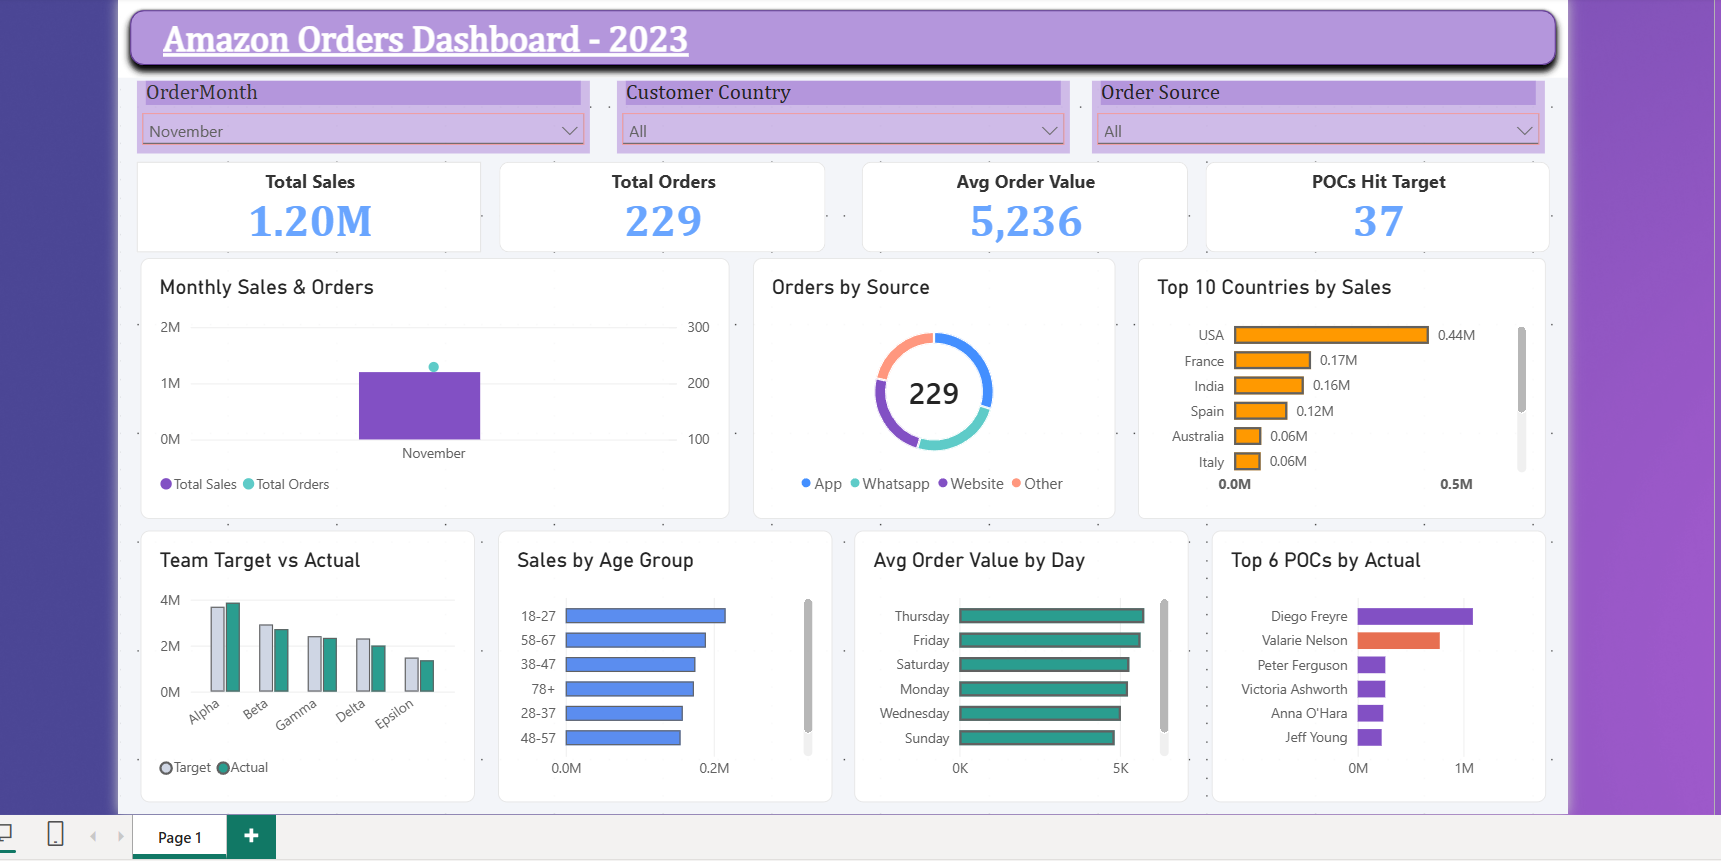

What the dashboard file says about the page in this screenshot:
{"tool":"powerbi","page":{"name":"Page 1","canvas":[1280,720],"ordinal":0},"visuals":[{"type":"cardVisual","fields":{"Data":["Orders.Total Sales"]},"box":[16,144,304,80],"z":0},{"type":"cardVisual","fields":{"Data":["Orders.Total Orders"]},"box":[336,144,288,80],"z":1000},{"type":"cardVisual","fields":{"Data":["Orders.Avg Order Value"]},"box":[656,144,288,80],"z":2000},{"type":"cardVisual","fields":{"Data":["Sales Targets.POCs Hit Target"]},"box":[960,144,304,80],"z":3000},{"type":"lineClusteredColumnComboChart","title":"Monthly Sales & Orders","fields":{"Category":["Orders.OrderMonth"],"Y":["Orders.Total Sales"],"Y2":["Orders.Total Orders"]},"box":[20,230,520,230],"z":4000},{"type":"donutChart","title":"Orders by Source","fields":{"Category":["Orders.Order Source"],"Y":["Orders.Total Orders"]},"box":[560,230,320,230],"z":5000},{"type":"clusteredBarChart","title":"Top 10 Countries by Sales","fields":{"Category":["Orders.Customer Country"],"Y":["Orders.Total Sales"]},"box":[900,230,360,230],"z":6000},{"type":"clusteredColumnChart","title":"Team Target vs Actual","fields":{"Category":["Sales Targets.Sales Team"],"Y":["Sales Targets.Target","Sales Targets.Actual"]},"box":[20,470,295,240],"z":7000},{"type":"clusteredBarChart","title":"Sales by Age Group","fields":{"Category":["Orders.Age Group"],"Y":["Orders.Total Sales"]},"box":[335,470,295,240],"z":8000},{"type":"clusteredBarChart","title":"Avg Order Value by Day","fields":{"Category":["Orders.OrderDay"],"Y":["Orders.Avg Order Value"]},"box":[650,470,295,240],"z":9000},{"type":"clusteredBarChart","title":"Top 6 POCs by Actual","fields":{"Category":["Sales Targets.Sales POC"],"Y":["Sales Targets.Actual"]},"box":[965,470,295,240],"z":10000},{"type":"slicer","fields":{"Values":["Orders.OrderMonth"]},"box":[16,73,400,64],"z":11000},{"type":"slicer","fields":{"Values":["Orders.Customer Country"]},"box":[440,73,400,64],"z":12000},{"type":"slicer","fields":{"Values":["Orders.Order Source"]},"box":[860,73,400,64],"z":13000},{"type":"shape","box":[0,0,1280,70],"z":15001},{"type":"textbox","box":[40,20,700,40],"z":15501}]}

Visuals, with their boxes on the page's 1280x720 design canvas (x1, y1, x2, y2). These are canvas units, not pixel positions in the 1721x861 screenshot, which may show the page scaled, cropped or inside an application window:
cardVisual - Orders.Total Sales: (16, 144, 320, 224)
cardVisual - Orders.Total Orders: (336, 144, 624, 224)
cardVisual - Orders.Avg Order Value: (656, 144, 944, 224)
cardVisual - Sales Targets.POCs Hit Target: (960, 144, 1264, 224)
"Monthly Sales & Orders" lineClusteredColumnComboChart: (20, 230, 540, 460)
"Orders by Source" donutChart: (560, 230, 880, 460)
"Top 10 Countries by Sales" clusteredBarChart: (900, 230, 1260, 460)
"Team Target vs Actual" clusteredColumnChart: (20, 470, 315, 710)
"Sales by Age Group" clusteredBarChart: (335, 470, 630, 710)
"Avg Order Value by Day" clusteredBarChart: (650, 470, 945, 710)
"Top 6 POCs by Actual" clusteredBarChart: (965, 470, 1260, 710)
slicer - Orders.OrderMonth: (16, 73, 416, 137)
slicer - Orders.Customer Country: (440, 73, 840, 137)
slicer - Orders.Order Source: (860, 73, 1260, 137)
shape: (0, 0, 1280, 70)
textbox: (40, 20, 740, 60)
